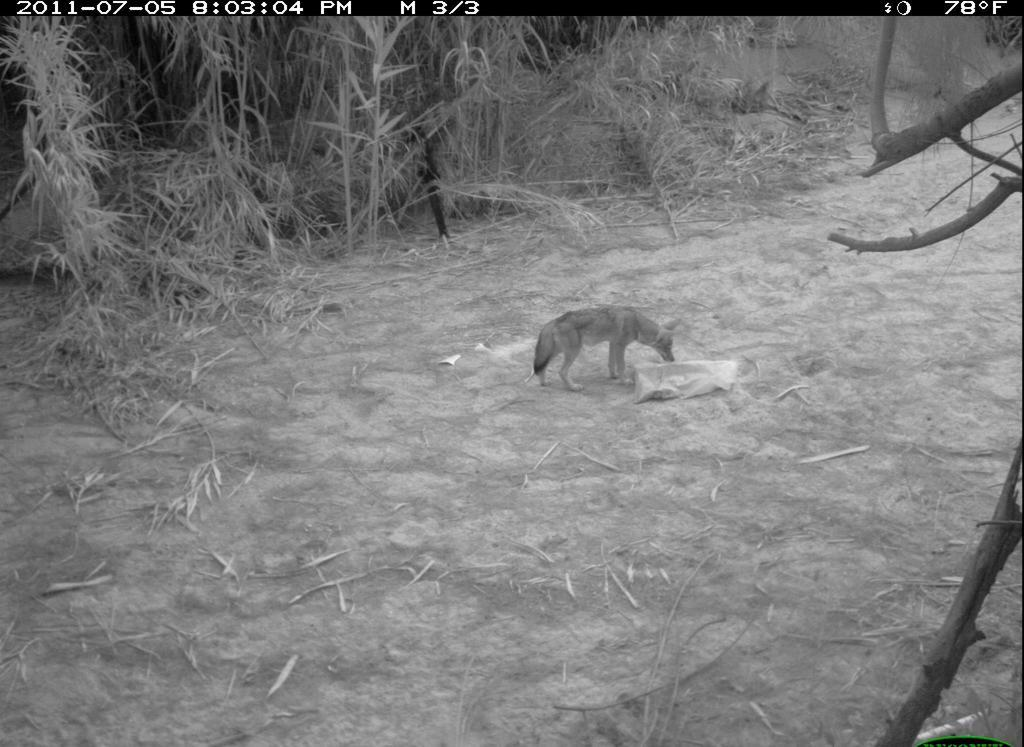coyote: (525, 297, 680, 392)
